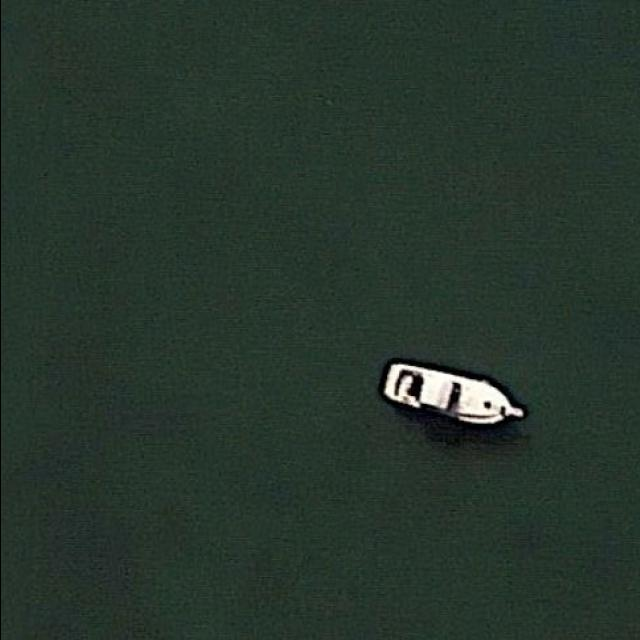ship: (381, 362, 531, 434)
